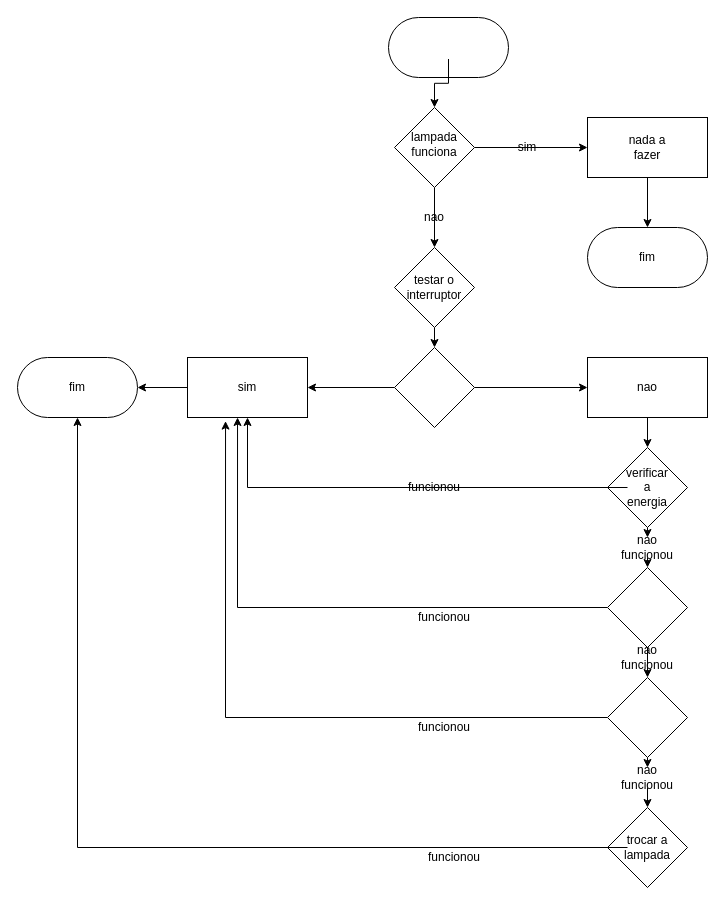
The diagram is 725 pixels wide and 905 high, and some of its shapes have lost their labels. Here are the shapes that lost their labels. From the top down, the centre of each, then its label:
At (448,47): "inicio".
At (434,387): "acendeu".
At (647,607): "olhar a lampada".
At (647,717): "comprar a lampada".
